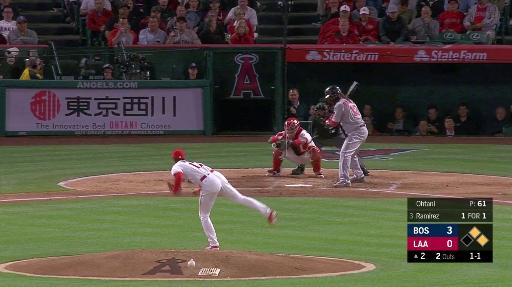pitcher: (168, 148, 281, 251)
